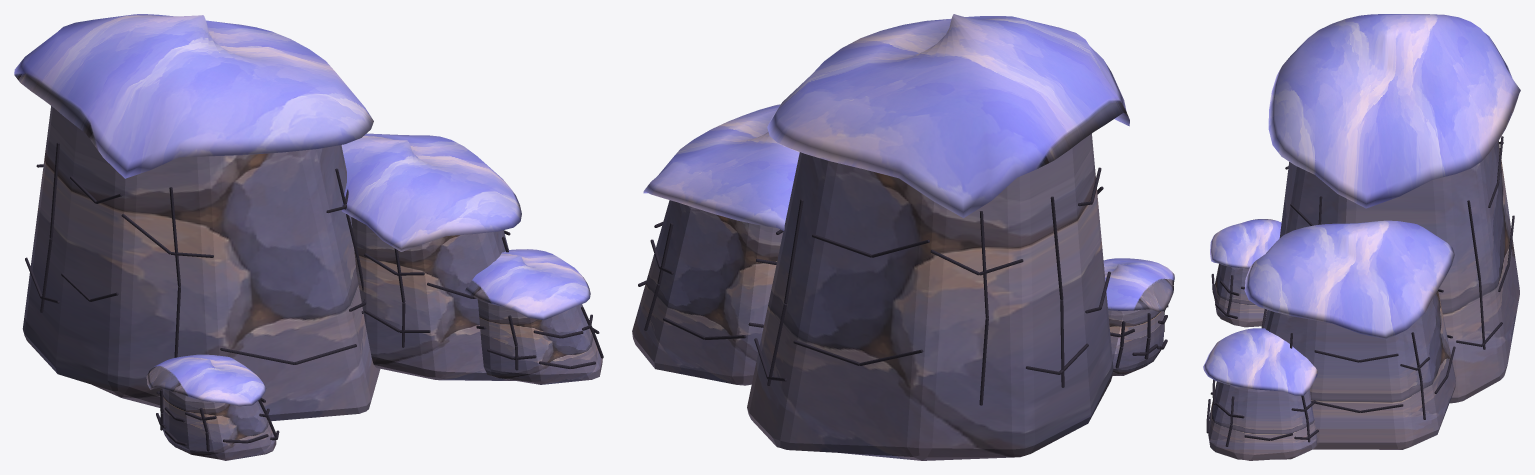
Rendered from snow_rocks.glb.
The picture shows the model from 3 angles, left to right: view 1: azimuth 30°, elevation 25°; view 2: azimuth 150°, elevation 25°; view 3: azimuth 270°, elevation 25°; orthographic projection. The views are drawn at different scales.
Visible parts, largest first — view 1: Sloping broad boulder planes, Rounded hanging boulder snow, Sloping broad boulder planes.001, Rounded hanging boulder snow.001, Sloping broad boulder planes.002, Rounded hanging boulder snow.002, Sloping broad boulder planes.003, Rounded hanging boulder snow.003; view 2: Sloping broad boulder planes, Rounded hanging boulder snow, Sloping broad boulder planes.001, Rounded hanging boulder snow.001, Rounded hanging boulder snow.003, Sloping broad boulder planes.003; view 3: Rounded hanging boulder snow, Sloping broad boulder planes, Rounded hanging boulder snow.001, Sloping broad boulder planes.001, Sloping broad boulder planes.002, Rounded hanging boulder snow.002, Rounded hanging boulder snow.003, Sloping broad boulder planes.003.
Part boxes in pixels (x1,y1,x2,y2): Sloping broad boulder planes: (22,106,380,421); Rounded hanging boulder snow: (14,14,373,178); Sloping broad boulder planes.001: (351,217,514,380); Rounded hanging boulder snow.001: (341,133,521,251); Sloping broad boulder planes.002: (477,299,602,384); Rounded hanging boulder snow.002: (465,249,590,320); Sloping broad boulder planes.003: (162,389,276,460); Rounded hanging boulder snow.003: (146,354,266,406); Sloping broad boulder planes: (747,133,1113,460); Rounded hanging boulder snow: (767,14,1129,218); Sloping broad boulder planes.001: (632,200,783,385); Rounded hanging boulder snow.001: (643,104,799,230); Rounded hanging boulder snow.003: (1103,258,1174,311); Sloping broad boulder planes.003: (1108,309,1163,375); Rounded hanging boulder snow: (1268,14,1520,208); Sloping broad boulder planes: (1279,141,1519,403); Rounded hanging boulder snow.001: (1244,220,1454,339); Sloping broad boulder planes.001: (1263,290,1455,449); Sloping broad boulder planes.002: (1208,381,1317,460); Rounded hanging boulder snow.002: (1203,328,1317,395); Rounded hanging boulder snow.003: (1210,219,1281,268); Sloping broad boulder planes.003: (1214,263,1267,327).
Size of the model in its own units: 3.46 by 2.72 by 2.52.
3 materials, 2 textured.
